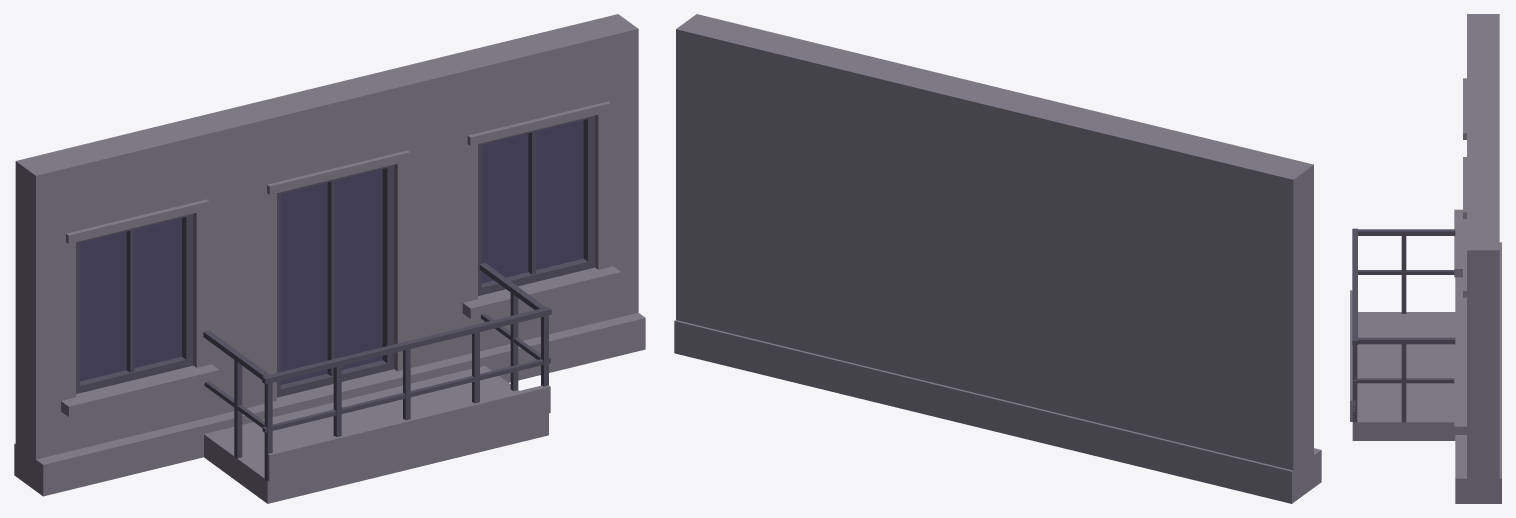
Rendered from FacadeBalcony.glb.
3 views of the same model, side by side, from view 1: azimuth 30°, elevation 25°; view 2: azimuth 150°, elevation 25°; view 3: azimuth 270°, elevation 25° (orthographic). The views are drawn at different scales.
Parts seen in each view (by area): view 1: pier (×6), spandrel, window (×3), floor-slab, balcony-slab, window-frame (×10), wall, balcony-panel, rail (×4), sill (×2), lintel (×3), rail-post (×3); view 2: wall, floor-slab, spandrel, pier; view 3: balcony-slab, wall, spandrel, floor-slab, rail (×5), pier (×2), sill (×2), rail-post (×3), lintel (×3), balcony-panel.
Boxes of the visible parts, x1=… form: pier (×6): x1=25, y1=102, x2=638, y2=459; spandrel: x1=25, y1=21, x2=638, y2=249; window (×3): x1=80, y1=120, x2=583, y2=384; floor-slab: x1=14, y1=312, x2=645, y2=496; balcony-slab: x1=204, y1=365, x2=548, y2=503; window-frame (×10): x1=80, y1=115, x2=595, y2=397; wall: x1=15, y1=14, x2=627, y2=451; balcony-panel: x1=266, y1=385, x2=550, y2=481; rail (×4): x1=203, y1=263, x2=551, y2=432; sill (×2): x1=61, y1=266, x2=621, y2=416; lintel (×3): x1=66, y1=101, x2=610, y2=243; rail-post (×3): x1=234, y1=293, x2=518, y2=480; wall: x1=676, y1=21, x2=1303, y2=497; floor-slab: x1=674, y1=320, x2=1321, y2=503; spandrel: x1=686, y1=14, x2=1313, y2=247; pier: x1=1303, y1=240, x2=1313, y2=408; balcony-slab: x1=1352, y1=312, x2=1455, y2=440; wall: x1=1483, y1=14, x2=1499, y2=503; spandrel: x1=1467, y1=14, x2=1483, y2=309; floor-slab: x1=1455, y1=242, x2=1501, y2=503; rail (×5): x1=1352, y1=228, x2=1455, y2=383; pier (×2): x1=1467, y1=309, x2=1483, y2=478; sill (×2): x1=1454, y1=209, x2=1466, y2=434; rail-post (×3): x1=1352, y1=236, x2=1406, y2=422; lintel (×3): x1=1463, y1=78, x2=1466, y2=297; balcony-panel: x1=1350, y1=290, x2=1355, y2=421.
Bounding box in the file's own units: 6 × 3 × 1.63.
